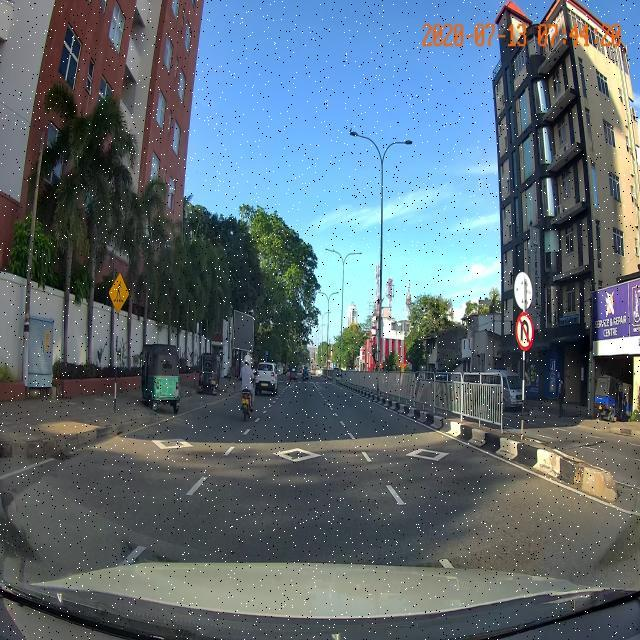diamond: (184, 436, 399, 480)
